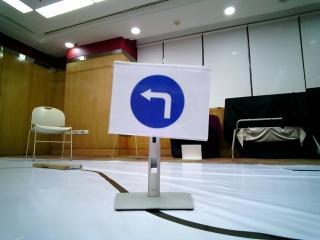left: (116, 66, 190, 135)
